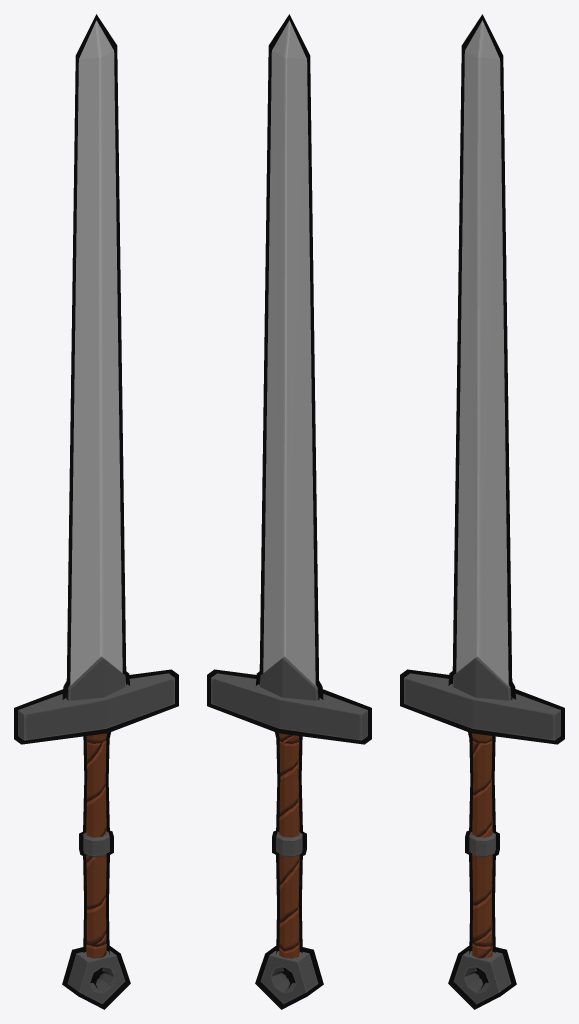
Rendered from sword1-transformed.glb.
3 renders of one model, left to right at view 1: azimuth 30°, elevation 25°; view 2: azimuth 150°, elevation 25°; view 3: azimuth 330°, elevation 25°, orthographic.
Visible parts, largest first — view 1: Cube.001, Cube.008; view 2: Cube.001, Cube.008; view 3: Cube.001, Cube.008.
Boxes of the visible parts, x1,y1,x2,y2 form: Cube.001: (18, 20, 174, 1004); Cube.008: (14, 14, 178, 1009); Cube.001: (211, 20, 367, 1004); Cube.008: (207, 14, 371, 1009); Cube.001: (404, 20, 560, 1004); Cube.008: (400, 14, 564, 1009).
Bounding box in the file's own units: 1.58 × 9.47 × 0.3981.
Materials: 2 (1 with a texture image).
